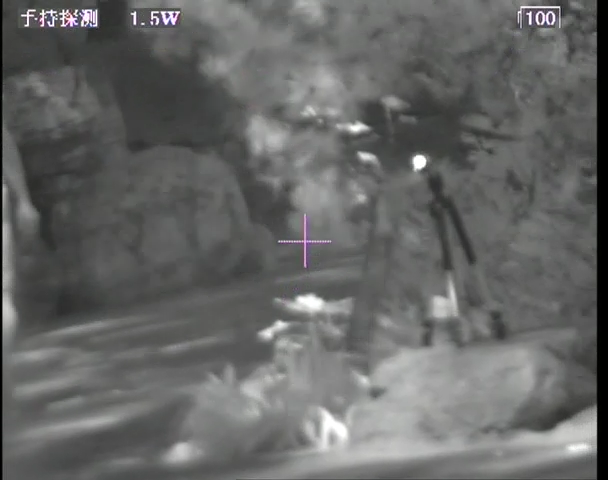my: (409, 153, 430, 173)
